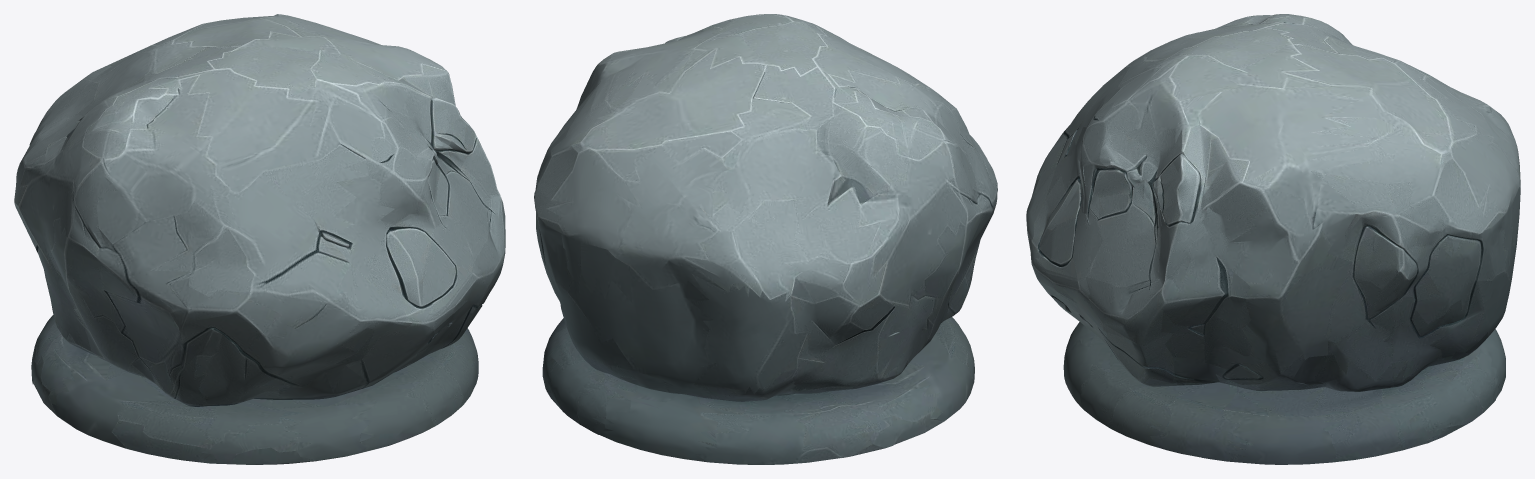
The model's file is lm_prateria.glb.
3 views of the same model, side by side, from view 1: azimuth 30°, elevation 25°; view 2: azimuth 150°, elevation 25°; view 3: azimuth 270°, elevation 25° (orthographic). The views are drawn at different scales.
Size of the model in its own units: 1.75 by 1.38 by 1.9.
1 material, 1 textured.
